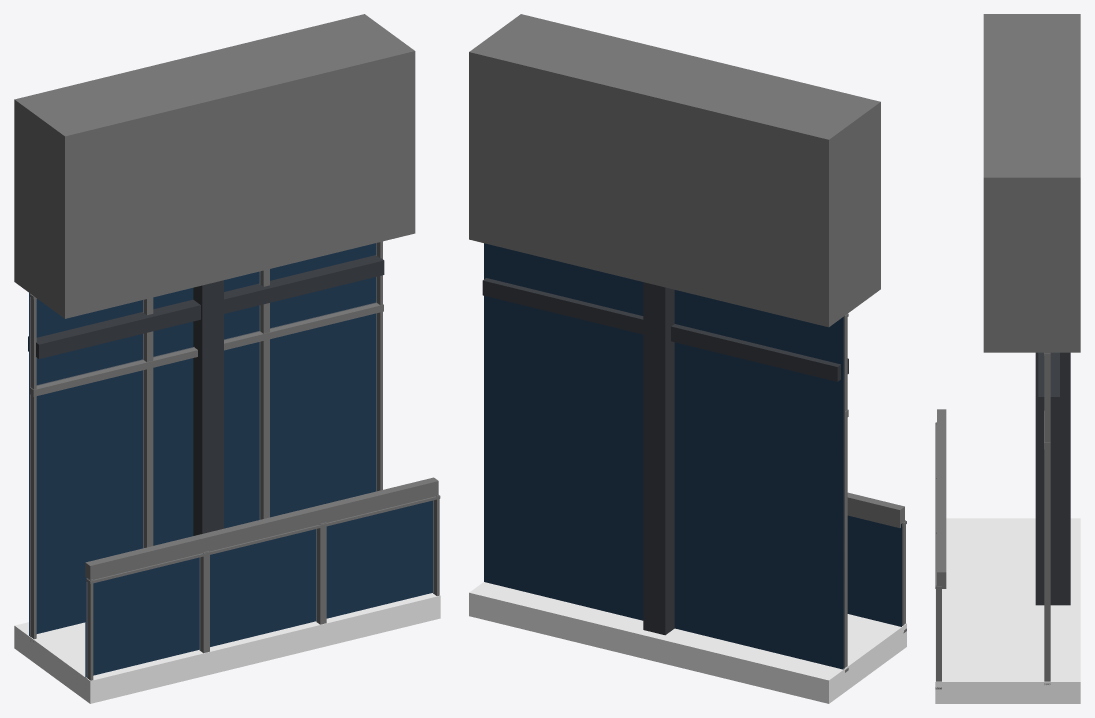
The model's file is top-w1_close.fbx.
3 views of the same model, side by side, from view 1: azimuth 30°, elevation 25°; view 2: azimuth 150°, elevation 25°; view 3: azimuth 270°, elevation 25° (orthographic). The views are drawn at different scales.
Visible parts, largest first — view 1: M_Wall.010; view 2: M_Wall.010; view 3: M_Wall.010.
Part boxes in pixels (bbox=[...]): M_Wall.010: bbox=[14, 14, 440, 703]; M_Wall.010: bbox=[469, 14, 906, 703]; M_Wall.010: bbox=[935, 14, 1080, 703].
Size of the model in its own units: 4 by 5.99 by 1.5.
